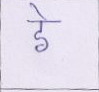e_matra: (30, 3, 48, 20)
